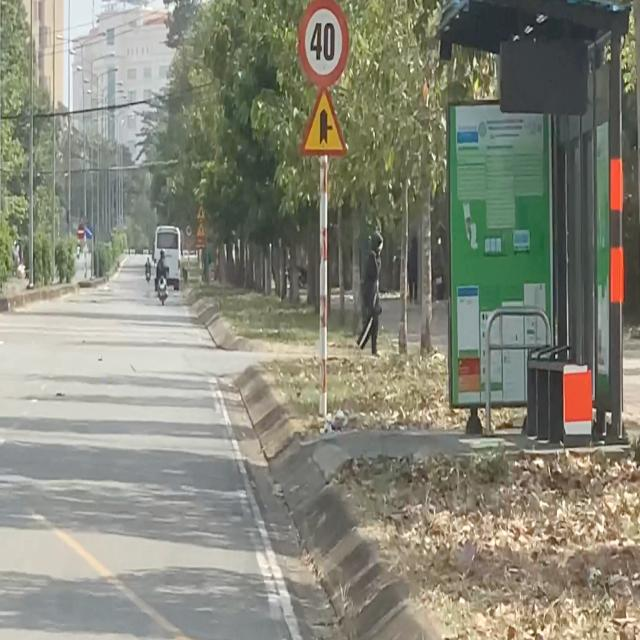Cam nguoc chieu: (76, 224, 85, 240)
Giao voi duong khong uu tien: (299, 87, 349, 161)
Hieu lenh: (85, 225, 92, 240)
Toc do toi da: (294, 0, 352, 82)
